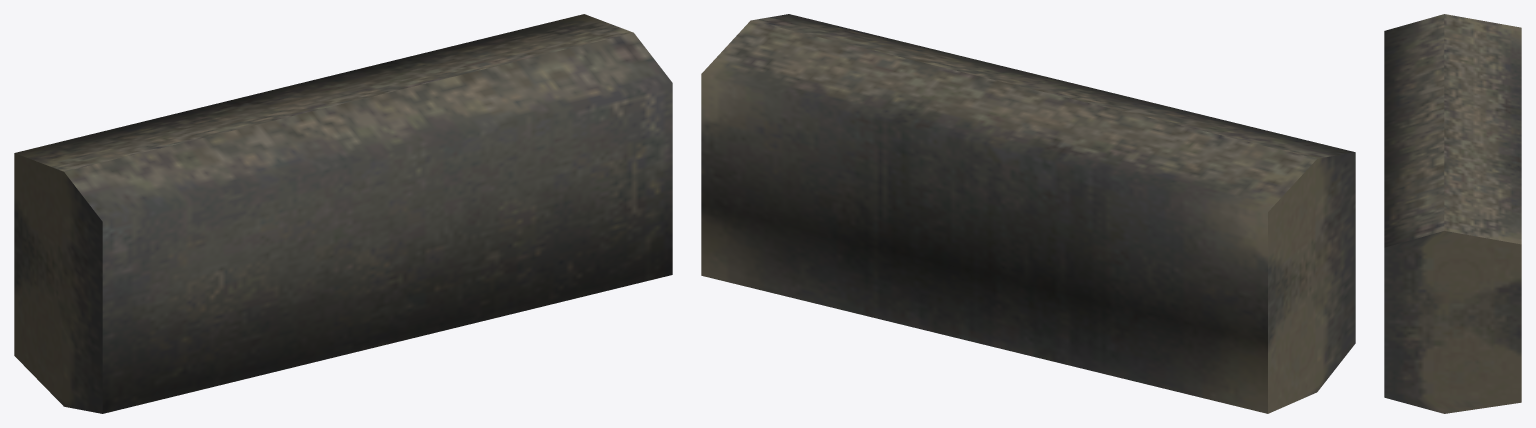
3 views of the same model, side by side, from view 1: azimuth 30°, elevation 25°; view 2: azimuth 150°, elevation 25°; view 3: azimuth 270°, elevation 25° (orthographic). The views are drawn at different scales.
Parts seen in each view (by area): view 1: set_0_group_0; view 2: set_0_group_0; view 3: set_0_group_0.
Boxes of the visible parts, x1,y1,x2,y2 form: set_0_group_0: (14,14,672,413); set_0_group_0: (701,14,1355,413); set_0_group_0: (1384,14,1521,413).
Size of the model in its own units: 0.3127 by 0.1232 by 0.0839.
1 material, 1 textured.
